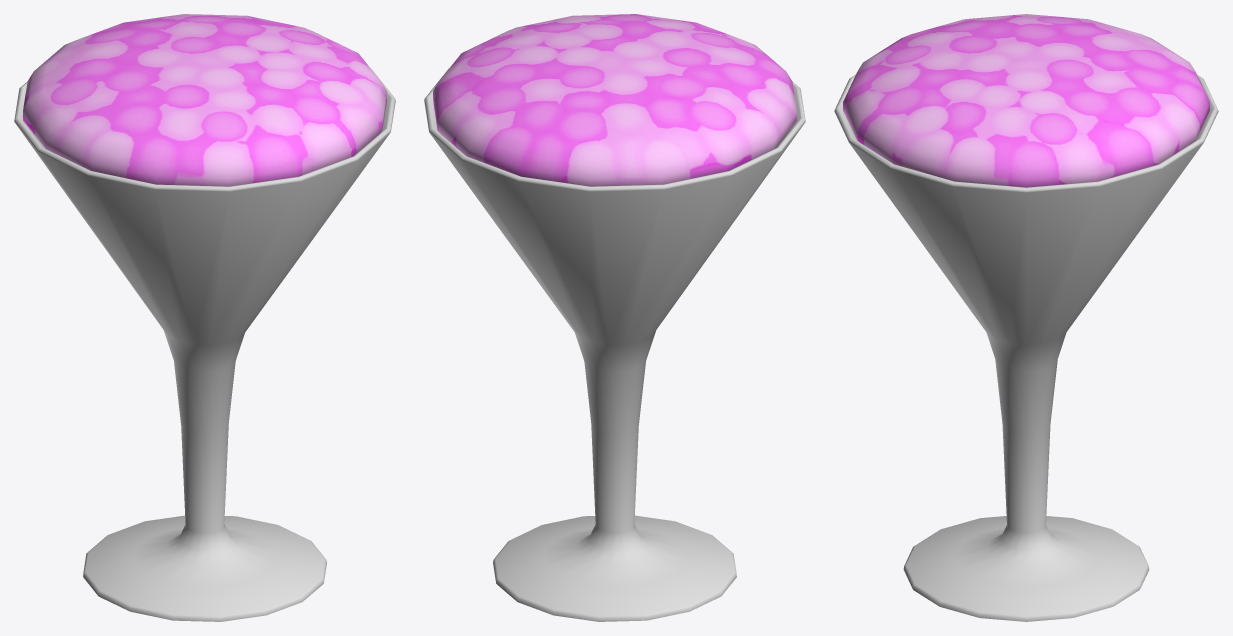
Rendered from BuffetCandy01_3.FBX.
The picture shows the model from 3 angles, left to right: view 1: azimuth 30°, elevation 25°; view 2: azimuth 150°, elevation 25°; view 3: azimuth 270°, elevation 25°; orthographic projection.
Visible parts, largest first — view 1: BuffetCandy01_3; view 2: BuffetCandy01_3; view 3: BuffetCandy01_3.
Part boxes in pixels (box(x1,y1,x2,y2)): BuffetCandy01_3: box(14, 14, 395, 621); BuffetCandy01_3: box(424, 14, 805, 621); BuffetCandy01_3: box(834, 14, 1218, 621).
Size of what is drawn, in the model's own units: 0.2503 by 0.3644 by 0.2503.
